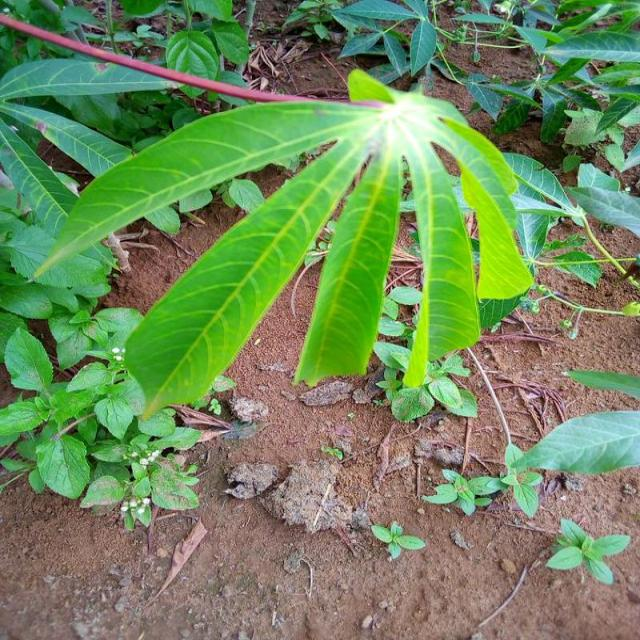cassava leaf: (34, 68, 532, 420)
